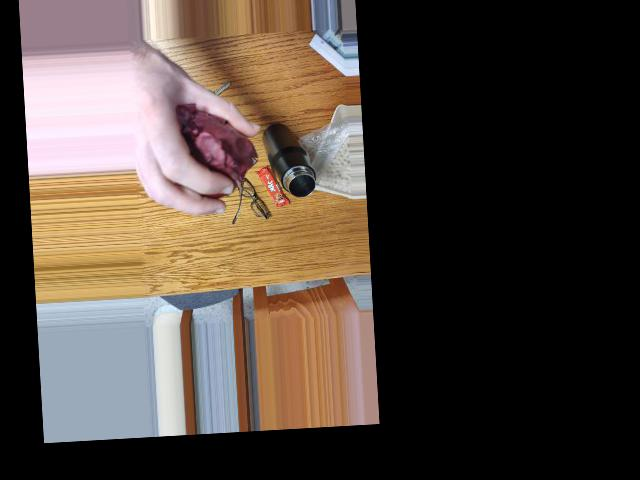onion: (173, 99, 250, 193)
